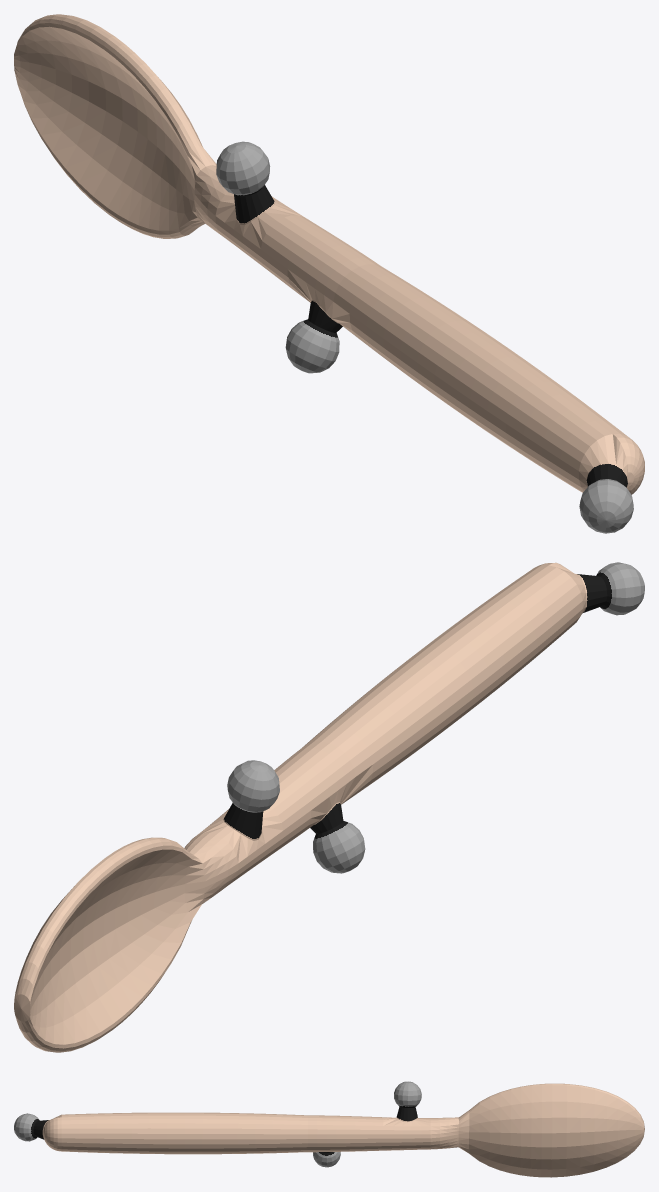
The model's file is wooden_spoon.glb.
The picture shows the model from 3 angles, top to bottom: view 1: azimuth 30°, elevation 25°; view 2: azimuth 150°, elevation 25°; view 3: azimuth 270°, elevation 25°; orthographic projection. The views are drawn at different scales.
Parts seen in each view (by area): view 1: wooden_spoon; view 2: wooden_spoon; view 3: wooden_spoon.
Part boxes in pixels (left/top/right/bottom): wooden_spoon: left=14, top=14, right=644, bottom=533; wooden_spoon: left=14, top=562, right=644, bottom=1052; wooden_spoon: left=14, top=1081, right=644, bottom=1177.
Bounding box in the file's own units: 0.0287 × 0.052 × 0.3217.
Materials: 1 (1 with a texture image).
